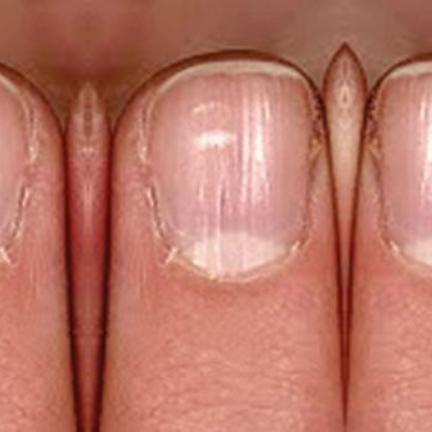Nail: (145, 61, 312, 276), (376, 62, 432, 272), (0, 74, 29, 252)
